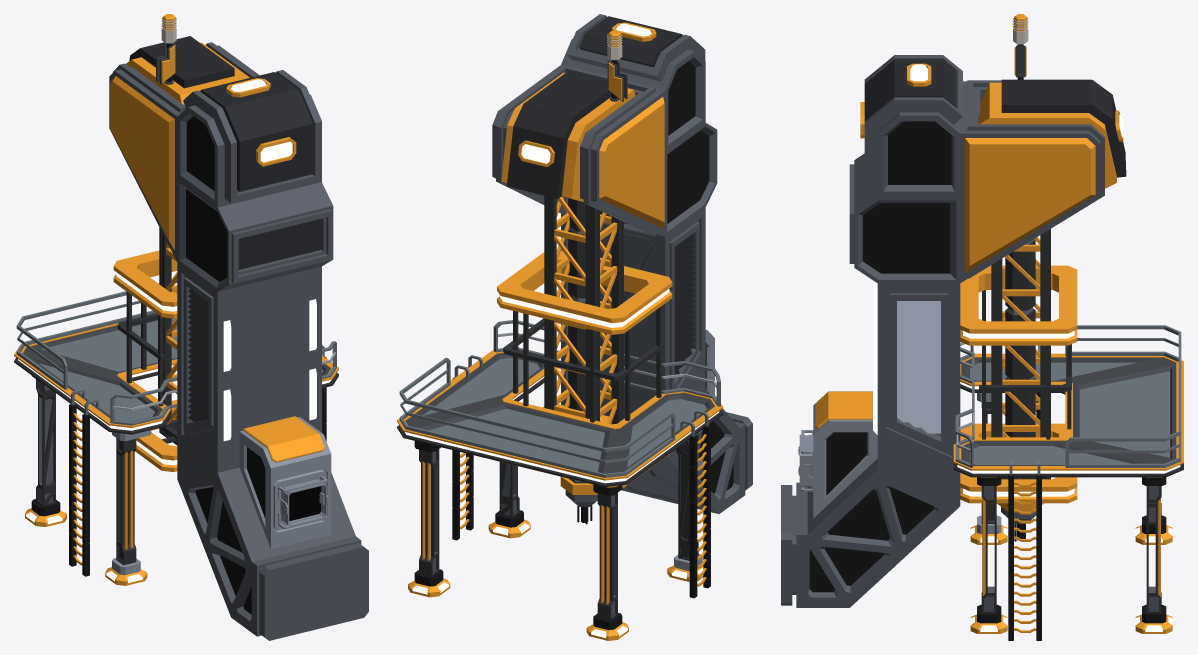
File: SM_Drilling_rig.glb
3 renders of one model, left to right at view 1: azimuth 30°, elevation 25°; view 2: azimuth 150°, elevation 25°; view 3: azimuth 270°, elevation 25°, orthographic. The views are drawn at different scales.
Visible parts, largest first — view 1: SM_Drilling_rig.005; view 2: SM_Drilling_rig.005, SM_Rotating_mechanism; view 3: SM_Drilling_rig.005.
Boxes of the visible parts, <box> form: SM_Drilling_rig.005: <box>14,14,368,640</box>; SM_Drilling_rig.005: <box>397,14,752,640</box>; SM_Rotating_mechanism: <box>560,476,597,506</box>; SM_Drilling_rig.005: <box>781,14,1183,640</box>.
Size of the model in its own units: 8 by 16.96 by 11.25.
3 materials, 2 textured.
